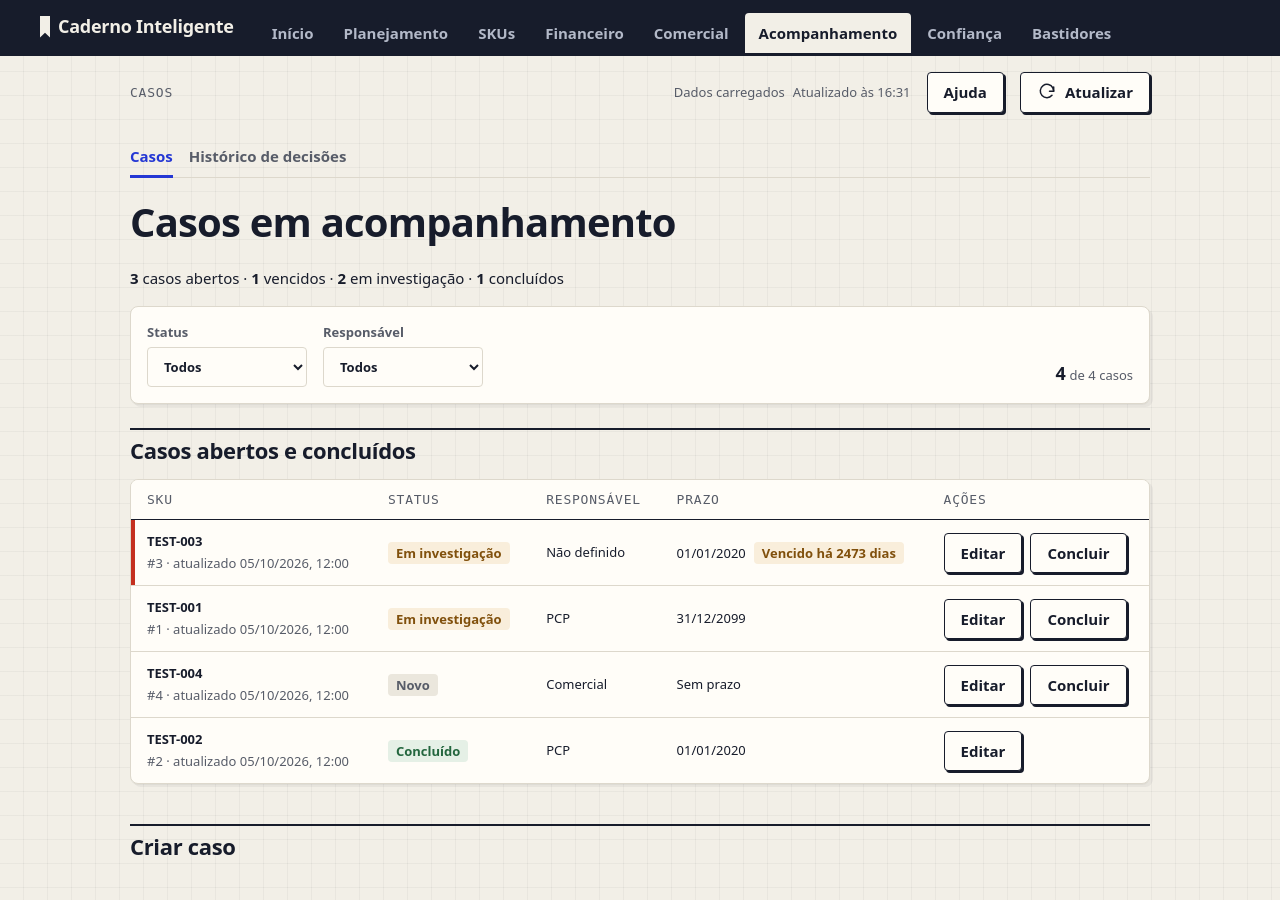
casos: atualizar › edita status, responsável e prazo, preserva ação e nota e anuncia o sucesso
Click the button with aria-label "Editar caso #1 do SKU TEST-001" at (983, 619), box [944, 598, 1022, 639]
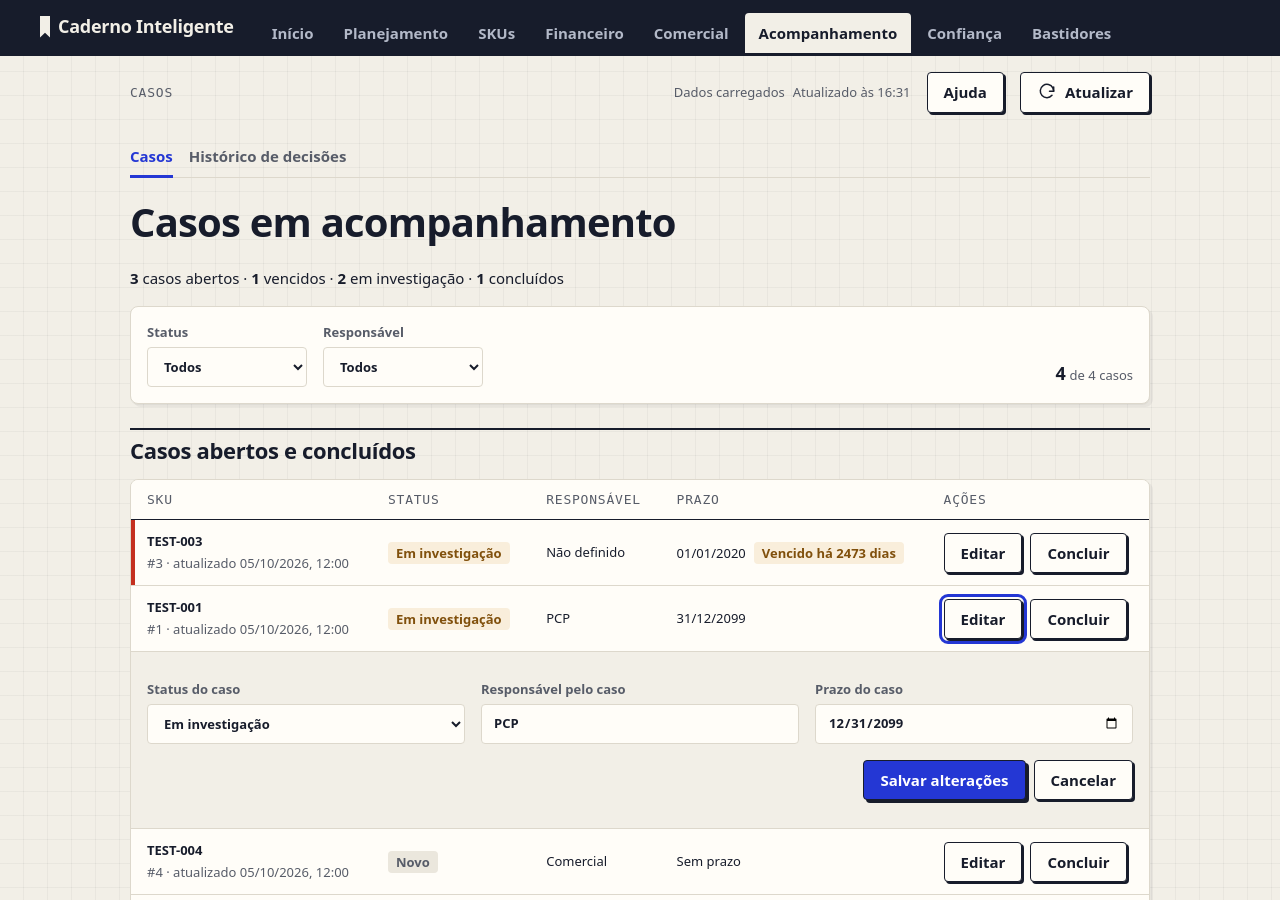
Select "Concluído" in the dropdown labelled "Status do caso" at (306, 724), box [147, 704, 465, 744]
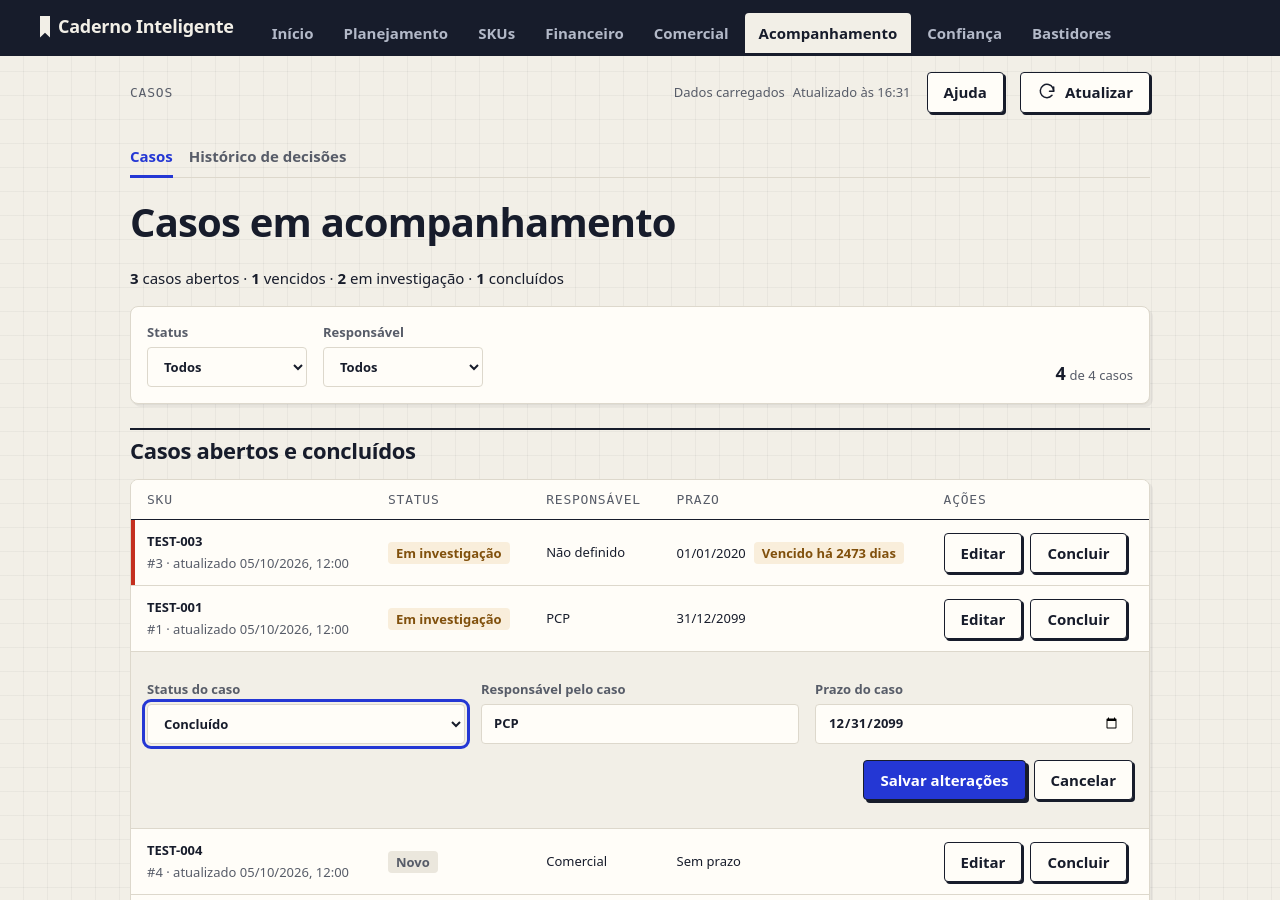
Replace the text in the field labelled "Responsável pelo caso" with "Logística" at (640, 724), box [481, 704, 799, 744]
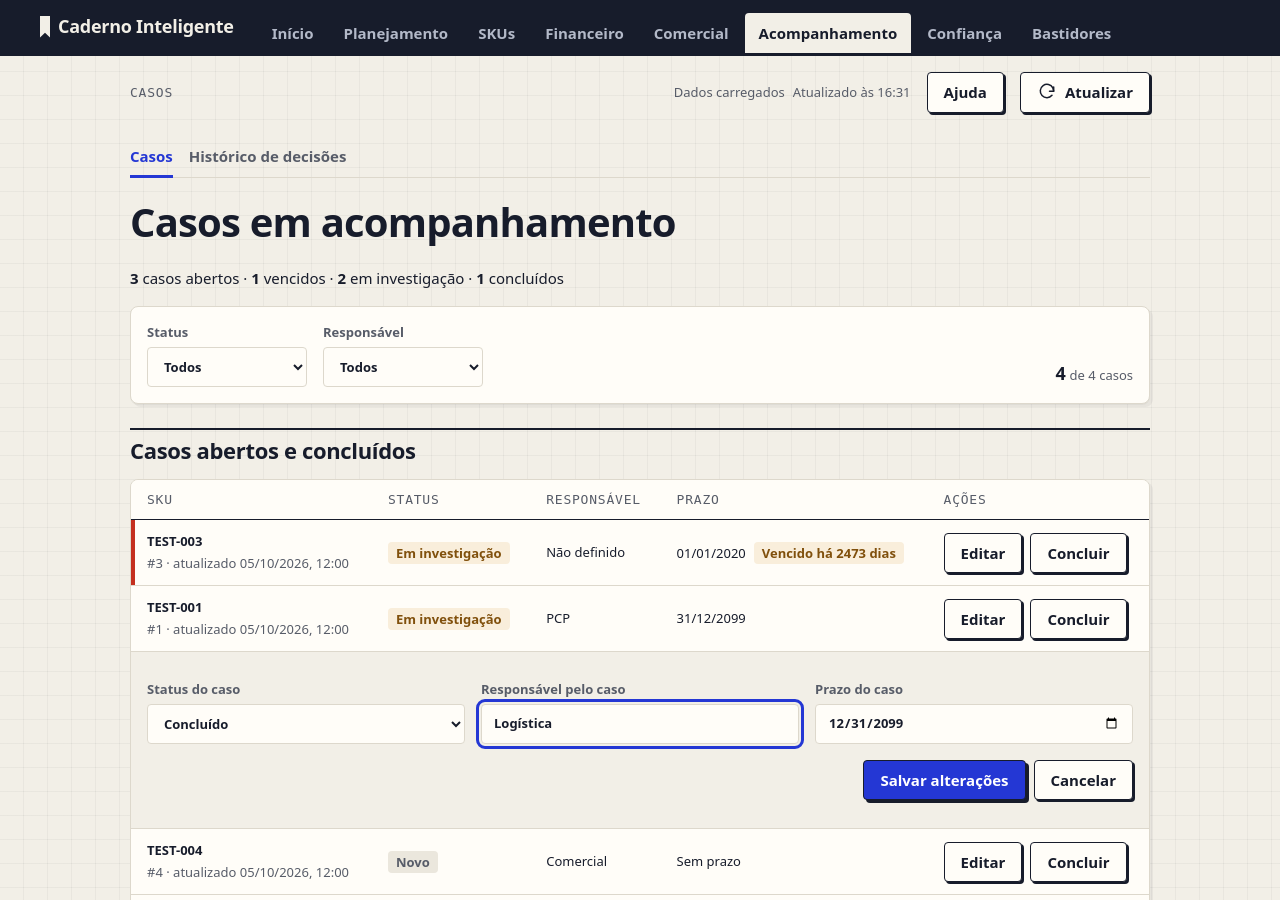
Click the button "Salvar alterações" at (944, 780), box [863, 760, 1026, 800]
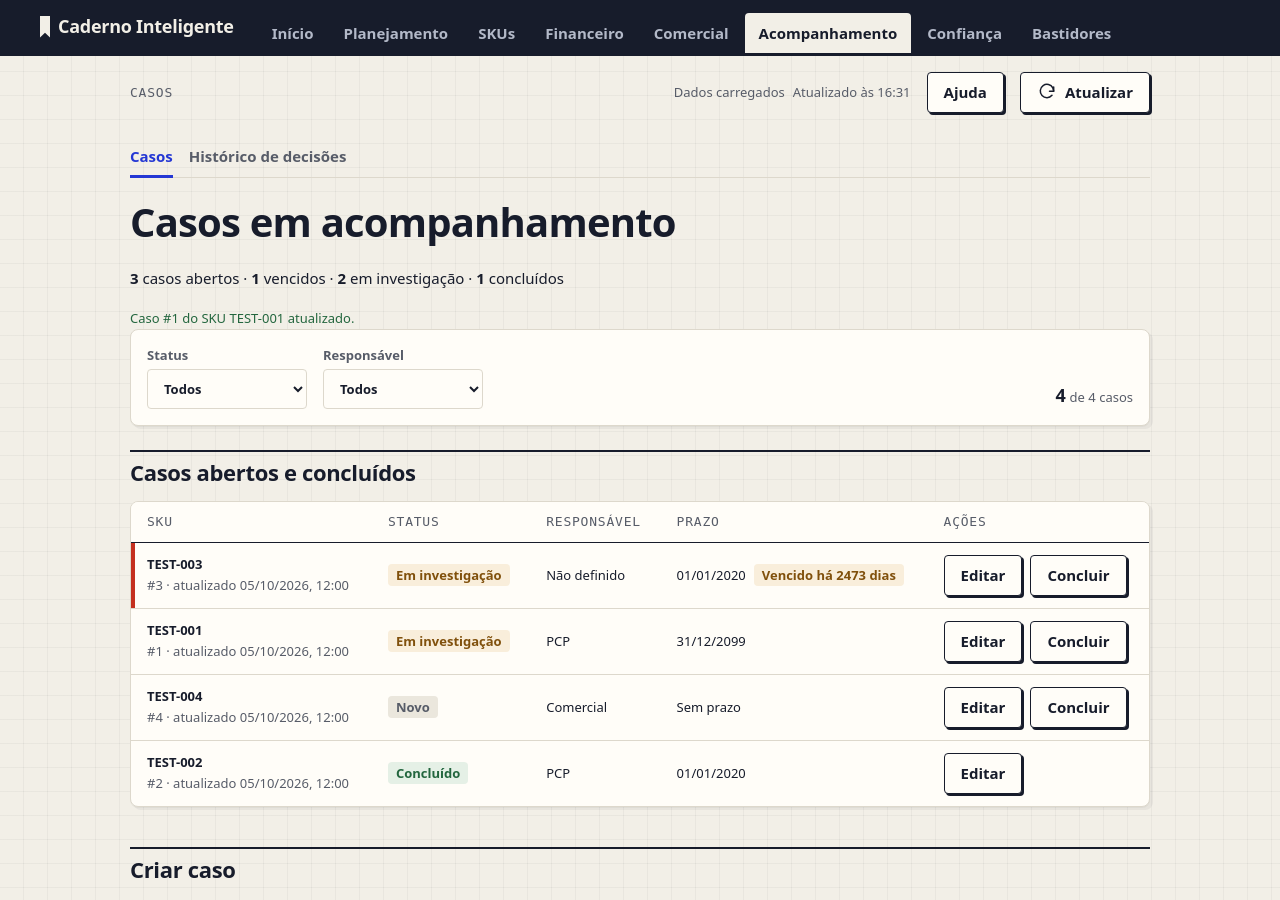
Expected: the text "Caso #1 do SKU TEST-001 atualizado." is shown, [130, 309, 354, 327]
